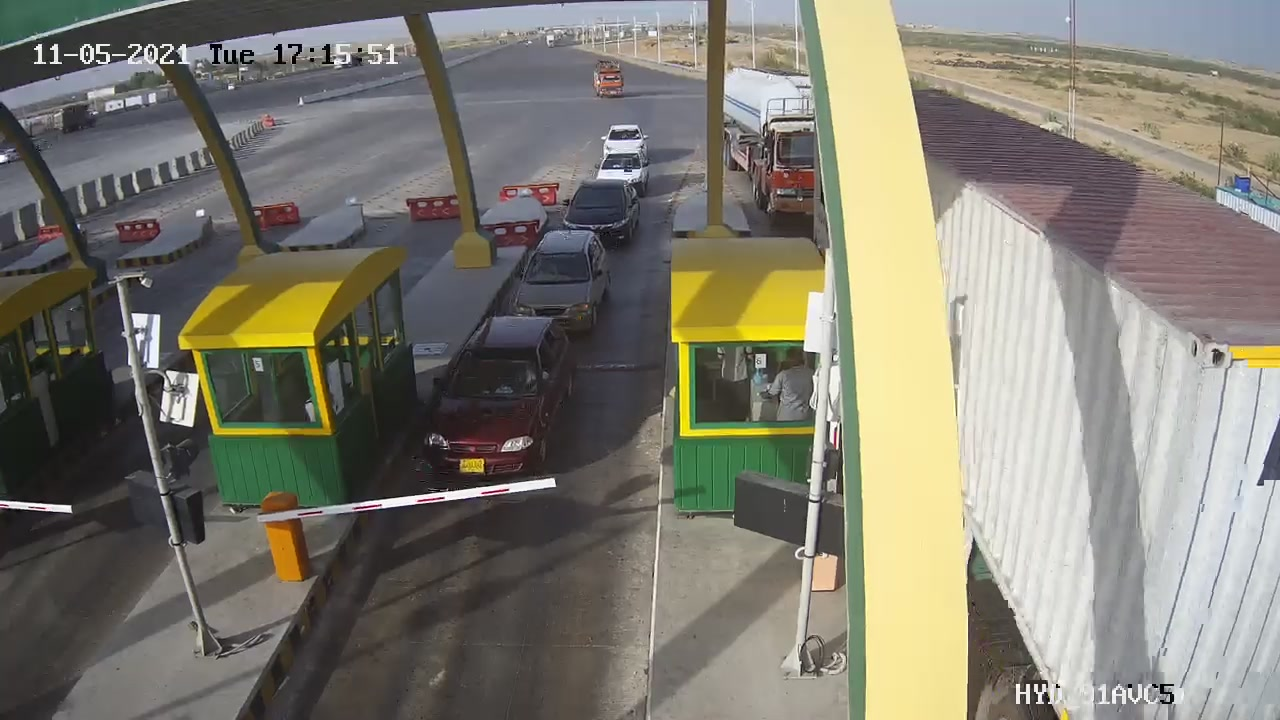F1: (404, 307, 591, 498), (503, 221, 625, 339)
